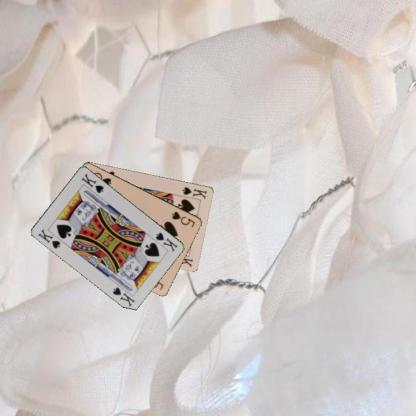5s: (170, 208, 196, 228)
Ks: (36, 226, 62, 250), (153, 230, 179, 252), (180, 184, 209, 200)
